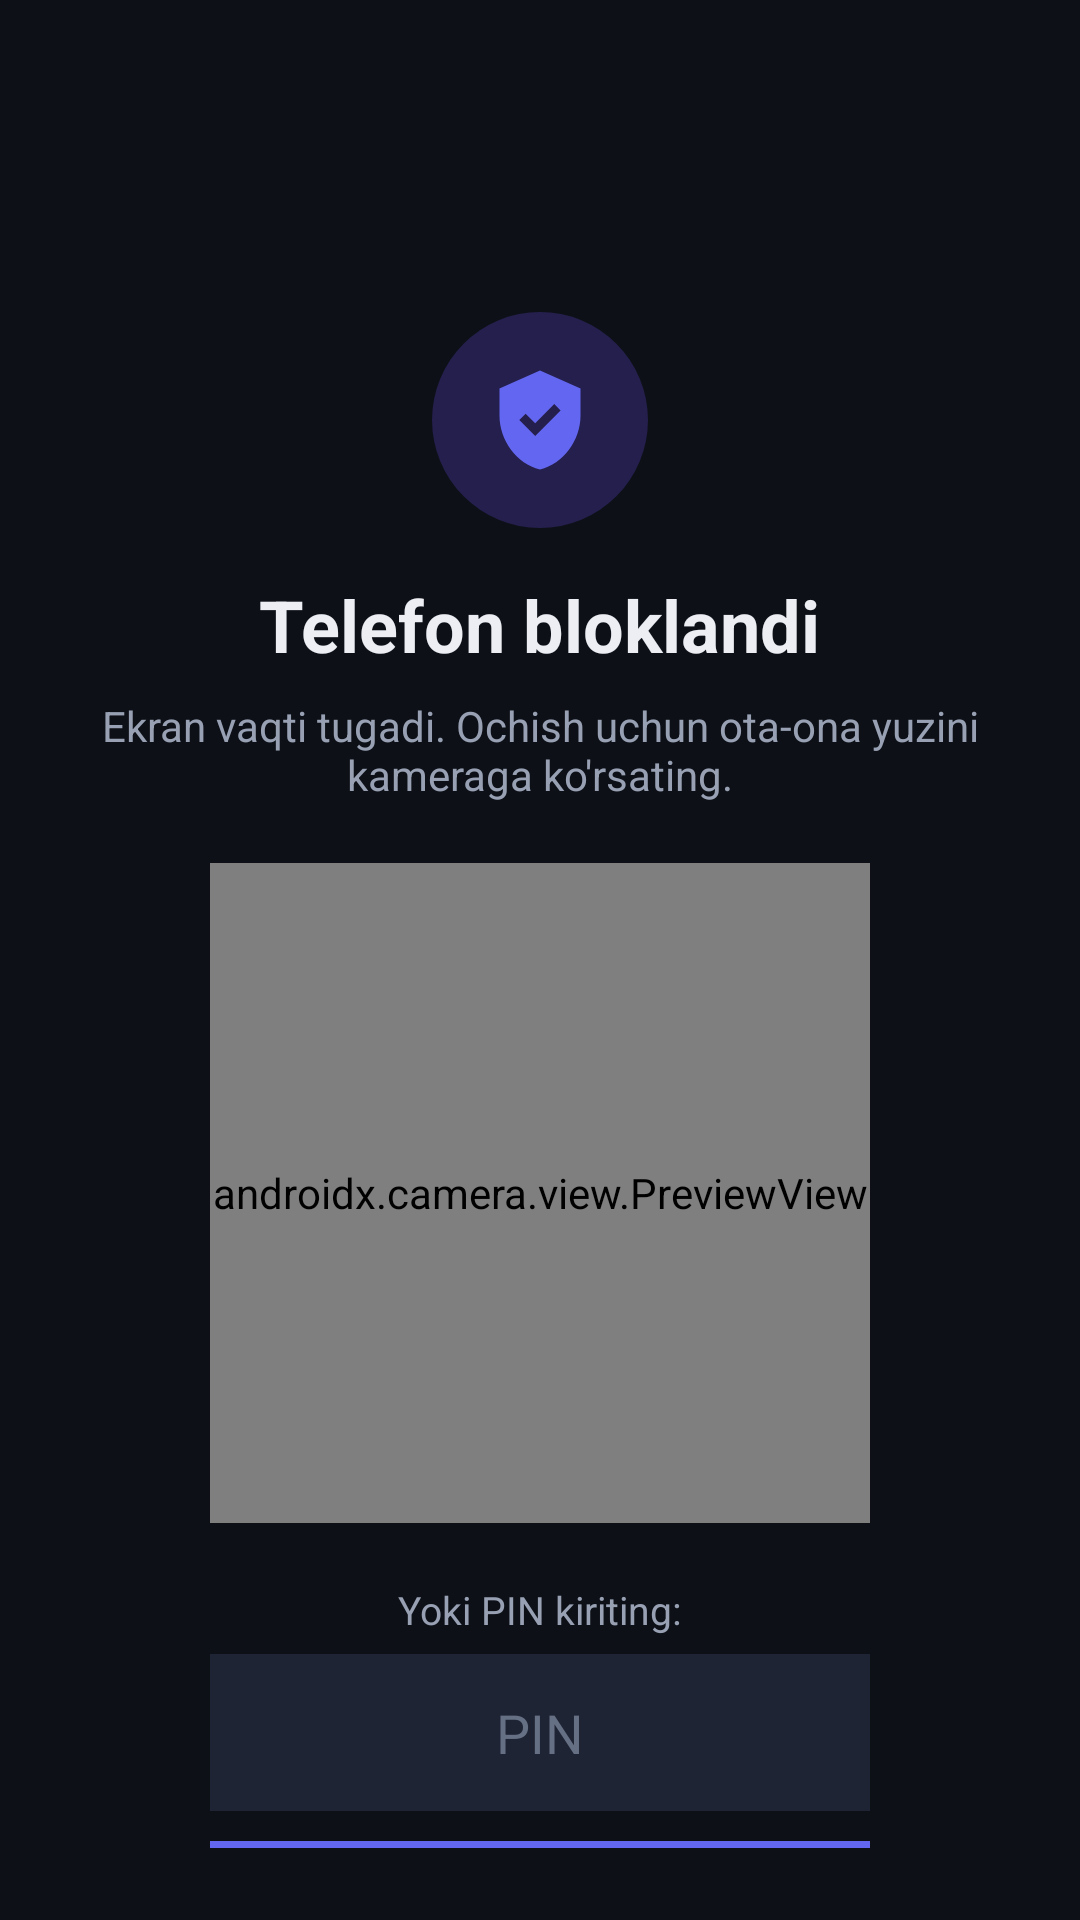

Icon bounding boxes for this 1080 × 1920 phone screenshot, format (x1=x1, y1=y1, x2=x2, y2=y2):
shield: (x1=432, y1=312, x2=648, y2=528)
